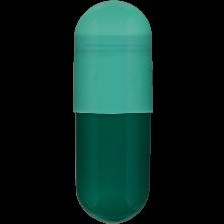0093-5117: (0, 0, 224, 224)
